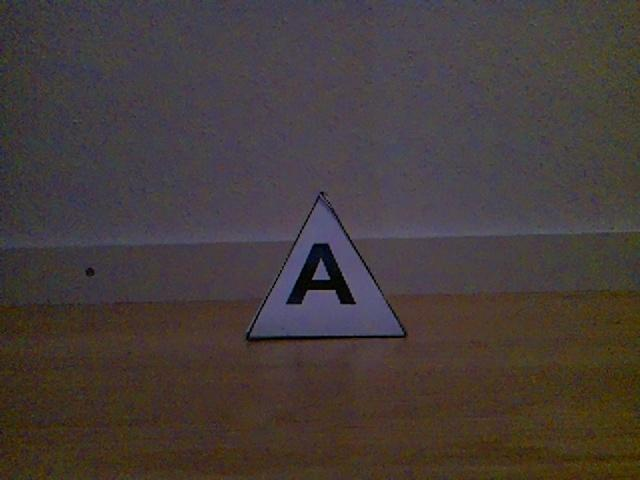A: (248, 191, 406, 342)
